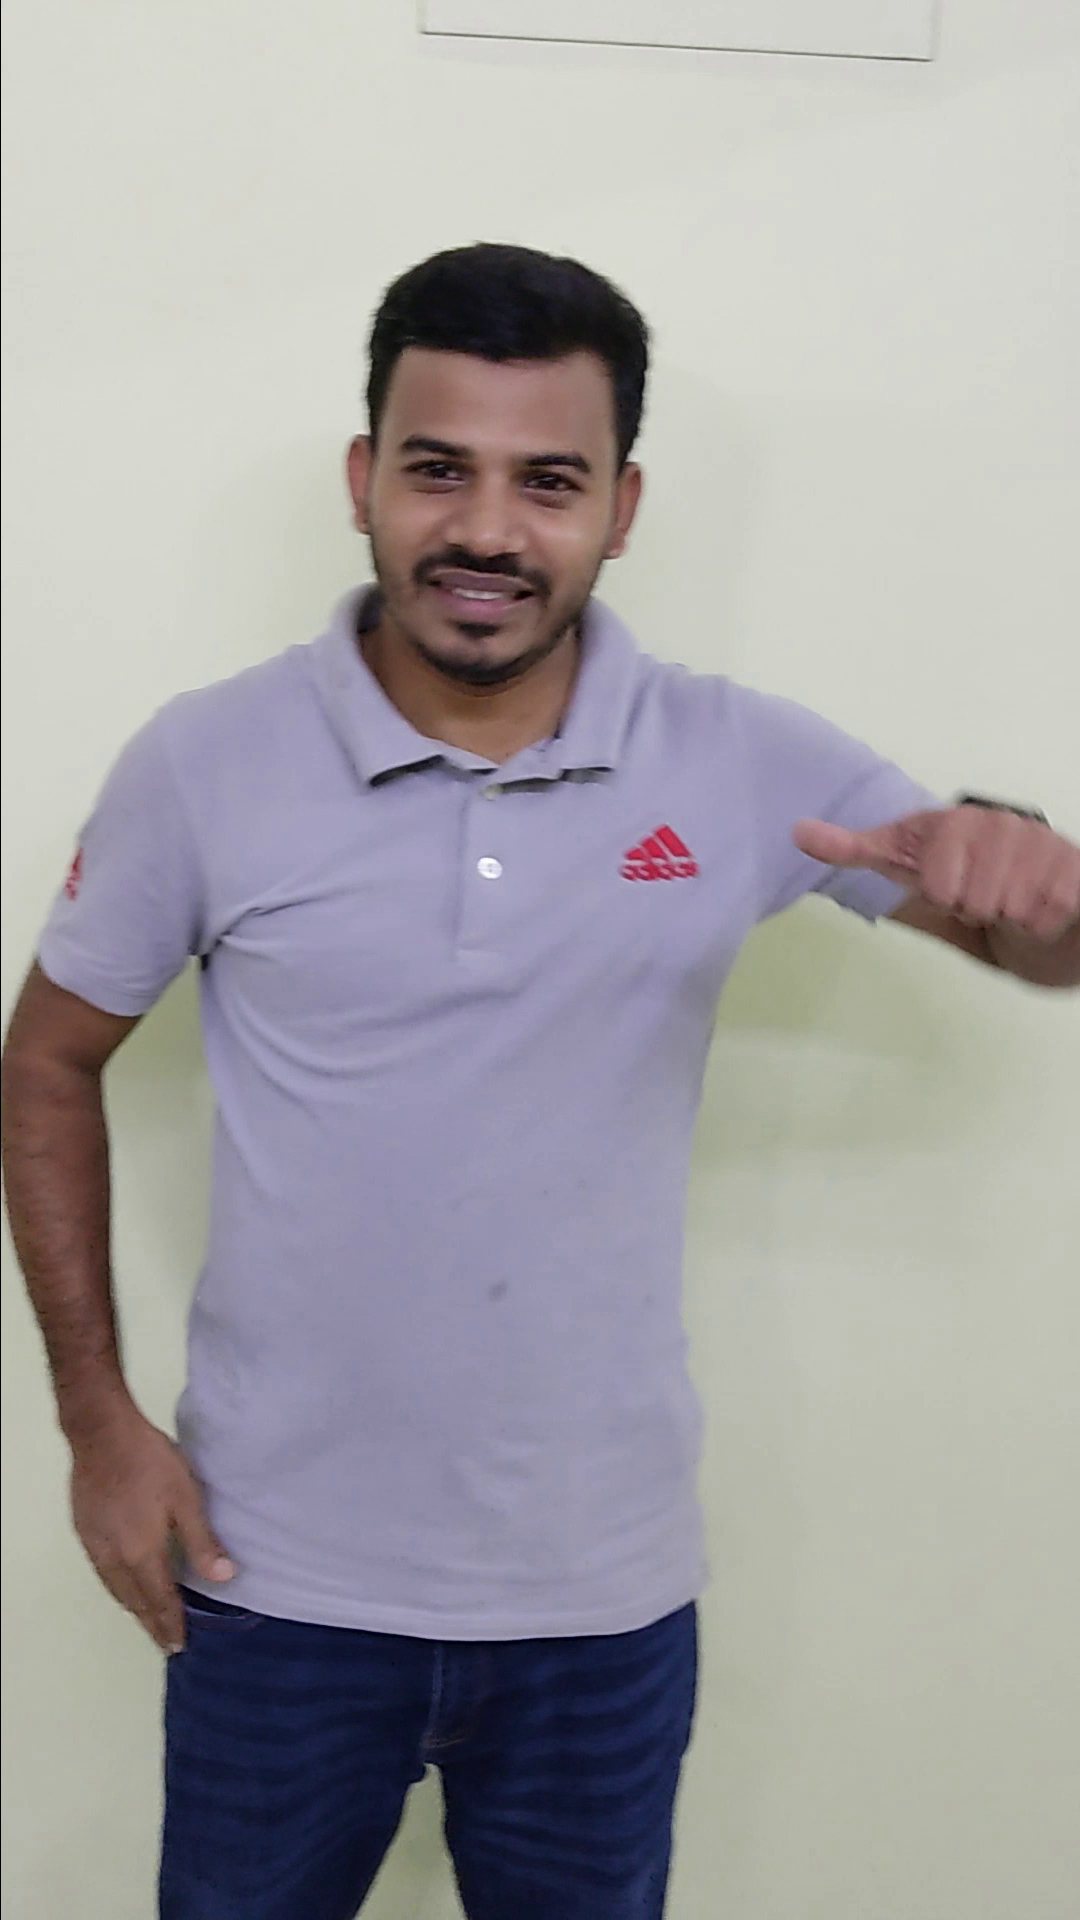Like: (781, 711, 1080, 1009)
None: (55, 1385, 272, 1683)
